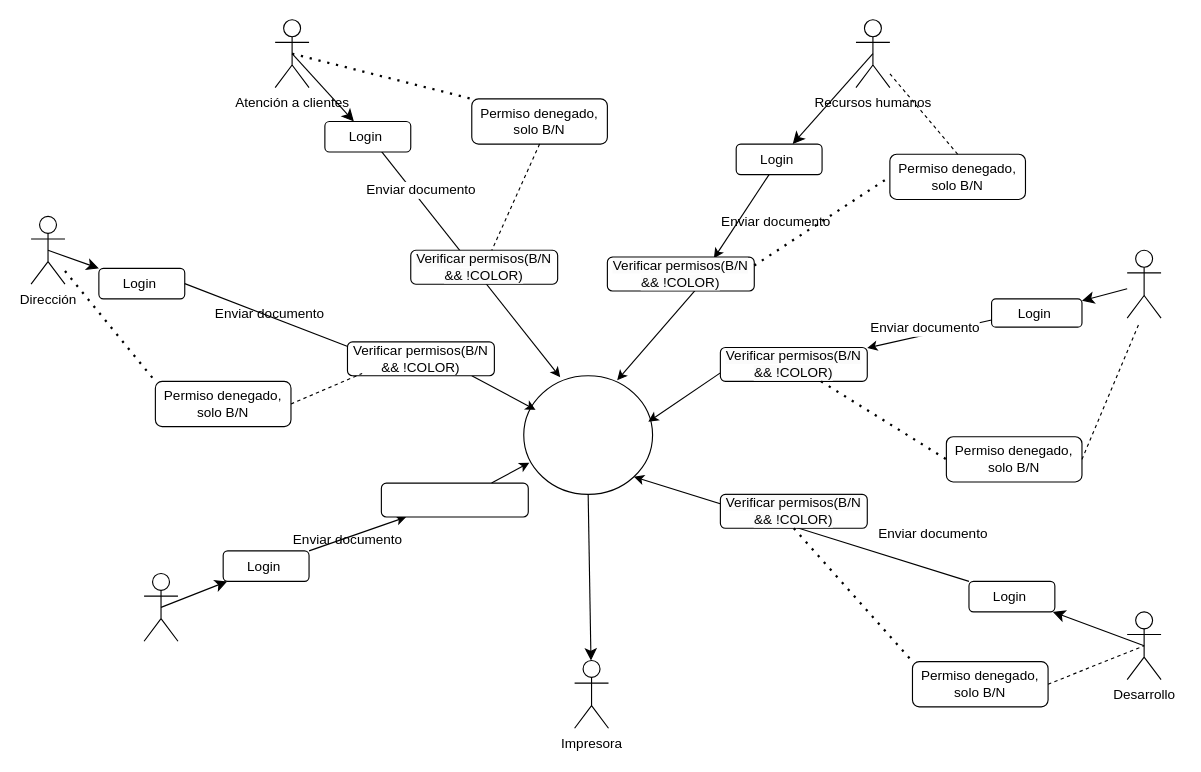
This 1201x772 diagram has some shape labels left out. Here are the shapes that lost their labels. From the top down, the box of each, then its label:
(1126, 249, 1161, 318): Contabilidad
(523, 375, 653, 494): Gestión de cola de impresión (FIFO)
(380, 482, 528, 517): Verificar permisos(B/N || COLOR)
(143, 572, 178, 641): Mercadotécnia
